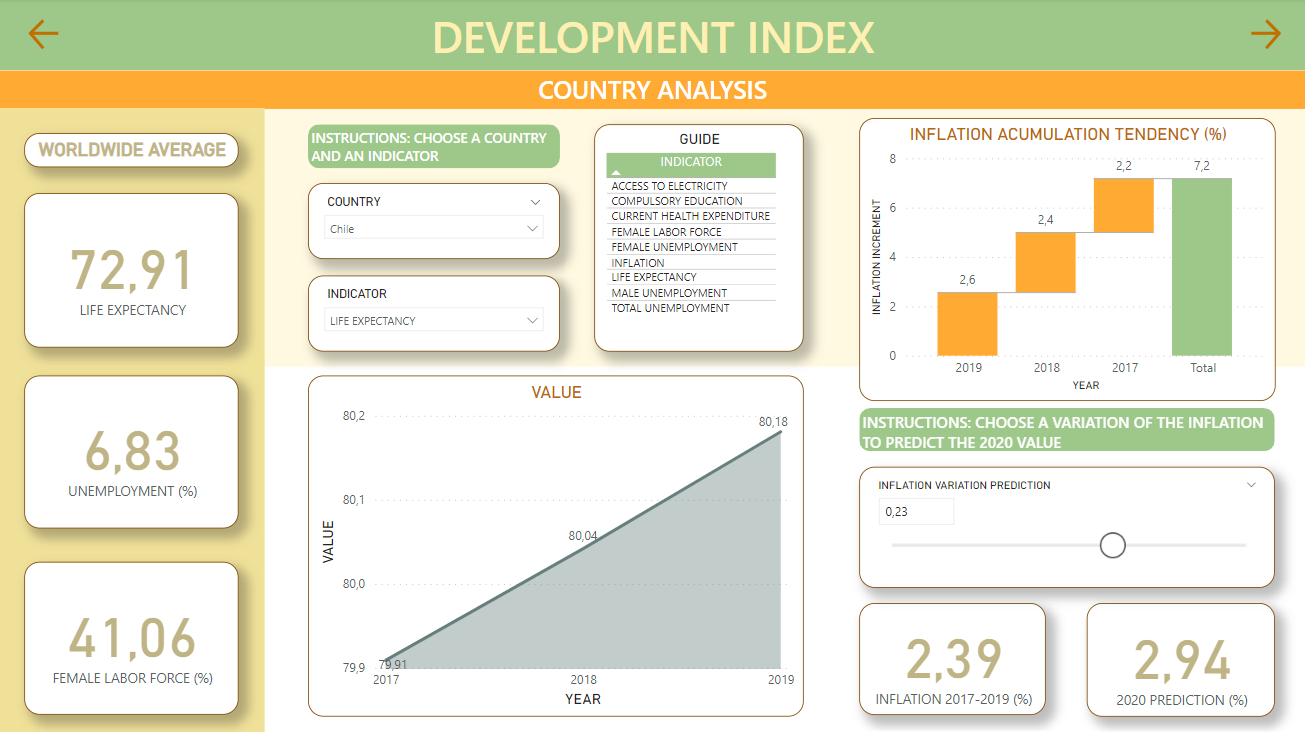

What the dashboard file says about the page in this screenshot:
{"tool":"powerbi","page":{"name":"DEVELOPMENT INDICATORS","canvas":[1280,720],"ordinal":3},"visuals":[{"type":"shape","box":[260.7,108.1,1018.8,252.7],"z":0},{"type":"shape","box":[0,0,1280.5,70.4],"z":1000},{"type":"shape","box":[0,70.4,1280.5,37.4],"z":2000},{"type":"slicer","fields":{"Values":["DEVELOPMENT_INDEX.ID_DEVELOPMENT_INDICATOR"]},"box":[940.9,147.8,273.4,57.2],"z":3000},{"type":"waterfallChart","title":"INFLATION ACUMULATION TENDENCY (%)","fields":{"Category":["DEVELOPMENT_INDEX.YEAR"],"Y":["Sum(DEVELOPMENT_INDEX.VALUE_DEVELOPMENT)"]},"box":[842.4,117.6,406.9,276.6],"z":4000},{"type":"slicer","fields":{"Values":["DEVELOPMENT_INDEX.COUNTRY"]},"box":[303.6,181.2,246.4,74.7],"z":5000},{"type":"shape","box":[0,108.1,260.7,611.9],"z":6000},{"type":"card","fields":{"Values":["DEVELOPMENT_INDEX.AVERAGE SERVICES ACCESS"]},"box":[25.4,190.7,209.8,151],"z":7000},{"type":"card","fields":{"Values":["DEVELOPMENT_INDEX.AVERAGE UNEMPLOYMENT EXPECTANCY"]},"box":[25.4,368.7,209.8,149.4],"z":8000},{"type":"card","fields":{"Values":["DEVELOPMENT_INDEX.AVERAGE INFLATION EXPECTANCY"]},"box":[25.4,551.5,209.8,149.4],"z":9000},{"type":"card","fields":{"Values":["DEVELOPMENT_INDEX.PROMEDIO INFLACION CHILE 2017-2019 (EN %)"]},"box":[842.4,591.3,182.8,109.7],"z":10000},{"type":"shape","title":"WORLDWIDE AVERAGE","box":[25.4,131.9,209.8,33.4],"z":11000},{"type":"card","fields":{"Values":["DEVELOPMENT_INDEX.2020 INFLATION PREDICTION (%)"]},"box":[1064.9,591.3,184.4,111.3],"z":12000},{"type":"slicer","fields":{"Values":["DEVELOPMENT_INDEX.DEVELOPMENT_INDICATOR.DEVELOPMENT_INDICATOR"]},"box":[303.6,271.8,246.4,74.7],"z":13000},{"type":"tableEx","title":"GUIDE","fields":{"Values":["DEVELOPMENT_INDICATOR.DEVELOPMENT_INDICATOR"]},"box":[583.3,124,205,222.5],"z":14000},{"type":"shape","box":[303.6,124,246.4,42.9],"z":15000},{"type":"areaChart","title":"VALUE","fields":{"Category":["DEVELOPMENT_INDEX.YEAR"],"Y":["Avg(DEVELOPMENT_INDEX.VALUE_DEVELOPMENT)"]},"box":[303.6,368.7,484.8,333.8],"z":16000},{"type":"slicer","fields":{"Values":["PREDICCION VARIACION INFLACION.PREDICCION VARIACION INFLACION"]},"box":[842.4,458.9,406.7,118.1],"z":17000},{"type":"shape","box":[842.4,400.8,406.7,42.6],"z":18000},{"type":"actionButton","box":[25.4,15.6,99.7,39.1],"z":19000},{"type":"actionButton","box":[1158.8,15.6,99.7,39.1],"z":20000}]}

Visuals, with their boxes in screenshot pixels (x1, y1, x2, y2), scaled from the page's 1280x720 canvas onto the 1305x732 screenshot:
shape: box=[266, 110, 1304, 367]
shape: box=[0, 0, 1304, 72]
shape: box=[0, 72, 1304, 110]
slicer - DEVELOPMENT_INDEX.ID_DEVELOPMENT_INDICATOR: box=[959, 150, 1238, 208]
"INFLATION ACUMULATION TENDENCY (%)" waterfallChart: box=[859, 120, 1274, 401]
slicer - DEVELOPMENT_INDEX.COUNTRY: box=[310, 184, 561, 260]
shape: box=[0, 110, 266, 731]
card - DEVELOPMENT_INDEX.AVERAGE SERVICES ACCESS: box=[26, 194, 240, 347]
card - DEVELOPMENT_INDEX.AVERAGE UNEMPLOYMENT EXPECTANCY: box=[26, 375, 240, 527]
card - DEVELOPMENT_INDEX.AVERAGE INFLATION EXPECTANCY: box=[26, 561, 240, 713]
card - DEVELOPMENT_INDEX.PROMEDIO INFLACION CHILE 2017-2019 (EN %): box=[859, 601, 1045, 713]
"WORLDWIDE AVERAGE" shape: box=[26, 134, 240, 168]
card - DEVELOPMENT_INDEX.2020 INFLATION PREDICTION (%): box=[1086, 601, 1274, 714]
slicer - DEVELOPMENT_INDEX.DEVELOPMENT_INDICATOR.DEVELOPMENT_INDICATOR: box=[310, 276, 561, 352]
"GUIDE" tableEx: box=[595, 126, 804, 352]
shape: box=[310, 126, 561, 170]
"VALUE" areaChart: box=[310, 375, 804, 714]
slicer - PREDICCION VARIACION INFLACION.PREDICCION VARIACION INFLACION: box=[859, 467, 1273, 587]
shape: box=[859, 407, 1273, 451]
actionButton: box=[26, 16, 128, 56]
actionButton: box=[1181, 16, 1283, 56]
